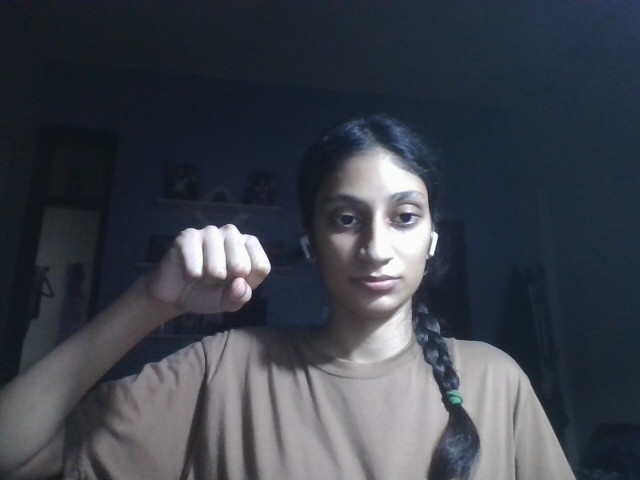yes: (151, 217, 274, 317)
